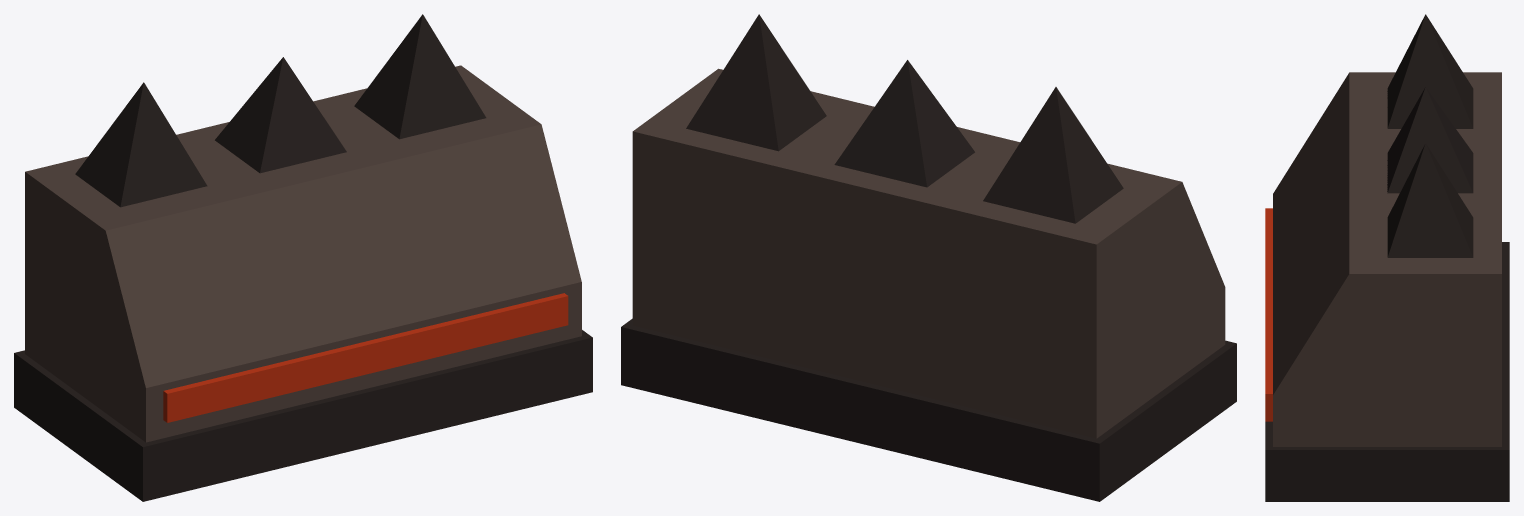
The model's file is barrierB.glb.
3 views of the same model, side by side, from view 1: azimuth 30°, elevation 25°; view 2: azimuth 150°, elevation 25°; view 3: azimuth 270°, elevation 25° (orthographic). The views are drawn at different scales.
Parts seen in each view (by area): view 1: volcano-barrierB; view 2: volcano-barrierB; view 3: volcano-barrierB.
Part boxes in pixels (x1,y1,x2,y2): volcano-barrierB: [14, 14, 592, 501]; volcano-barrierB: [621, 14, 1236, 501]; volcano-barrierB: [1265, 14, 1509, 501].
Bounding box in the file's own units: 0.258 × 0.1848 × 0.128.
